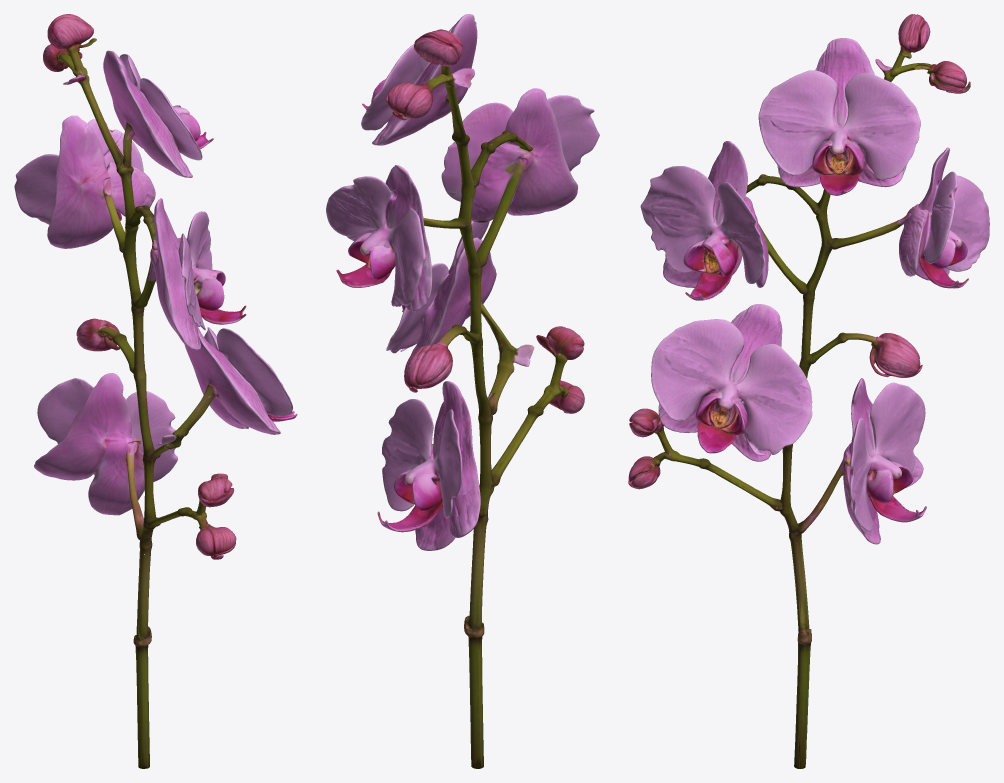
The model's file is Orchid 1.glb.
3 views of the same model, side by side, from view 1: azimuth 30°, elevation 25°; view 2: azimuth 150°, elevation 25°; view 3: azimuth 270°, elevation 25° (orthographic). The views are drawn at different scales.
Visible parts, largest first — view 1: tripo_node_225fe441-dd06-4f02-bf80-a87395c6c8d2; view 2: tripo_node_225fe441-dd06-4f02-bf80-a87395c6c8d2; view 3: tripo_node_225fe441-dd06-4f02-bf80-a87395c6c8d2.
Boxes of the visible parts, x1,y1,x2,y2 form: tripo_node_225fe441-dd06-4f02-bf80-a87395c6c8d2: [14, 14, 297, 768]; tripo_node_225fe441-dd06-4f02-bf80-a87395c6c8d2: [326, 14, 599, 768]; tripo_node_225fe441-dd06-4f02-bf80-a87395c6c8d2: [628, 14, 989, 768].
Size of the model in its own units: 0.2351 by 0.9799 by 0.435.
1 material, 1 textured.
